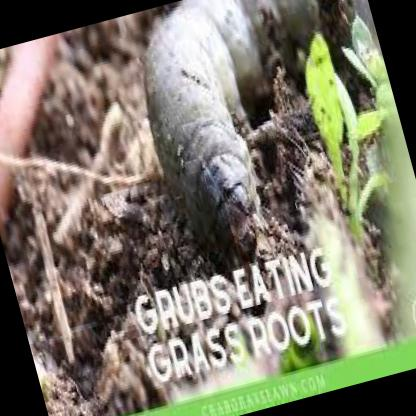root grubs: (145, 0, 317, 268)
